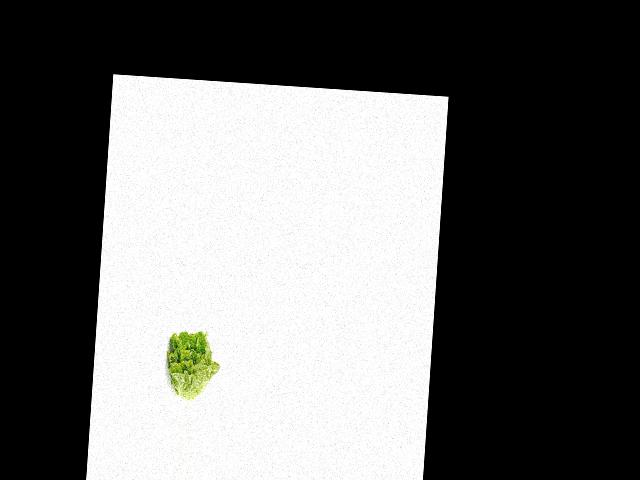lettuce: (160, 329, 221, 402)
